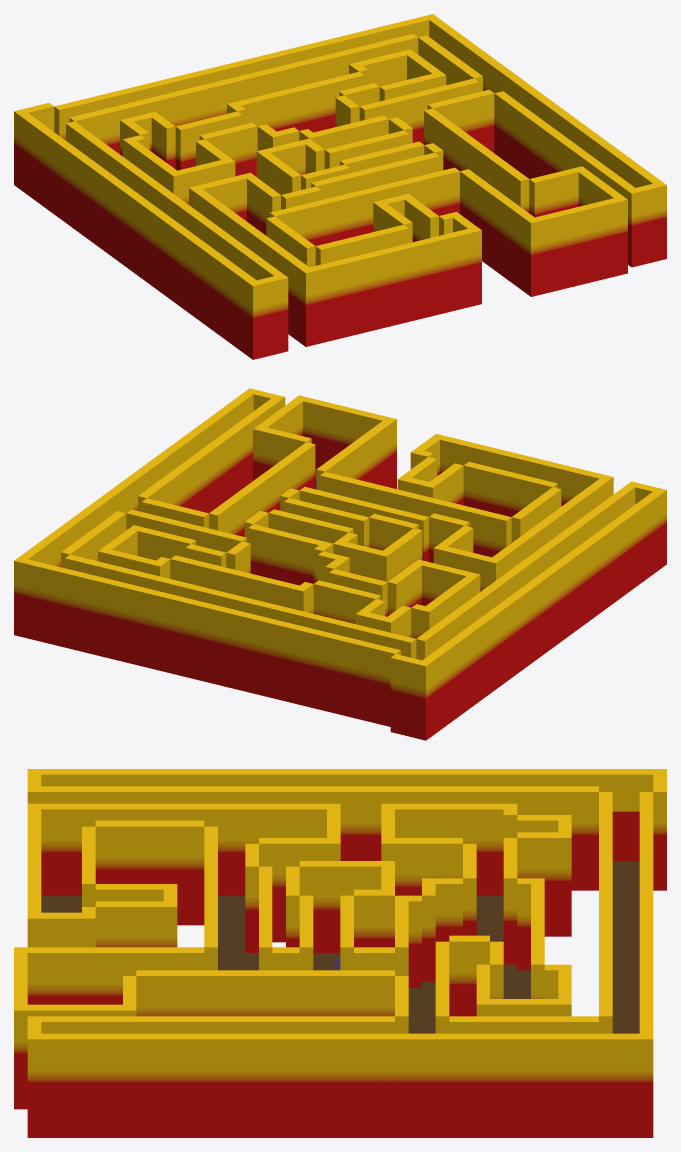
File: LevelA.dae
3 renders of one model, top to bottom at view 1: azimuth 30°, elevation 25°; view 2: azimuth 150°, elevation 25°; view 3: azimuth 270°, elevation 25°, orthographic. The views are drawn at different scales.
Visible parts, largest first — view 1: Base_de_Niveau; view 2: Base_de_Niveau; view 3: Base_de_Niveau.
Part boxes in pixels (x1=…): Base_de_Niveau: x1=14, y1=14, x2=666, y2=359; Base_de_Niveau: x1=14, y1=388, x2=666, y2=740; Base_de_Niveau: x1=14, y1=769, x2=666, y2=1137.
Size of the model in its own units: 47 by 8 by 48.
Materials: 1 (1 with a texture image).
